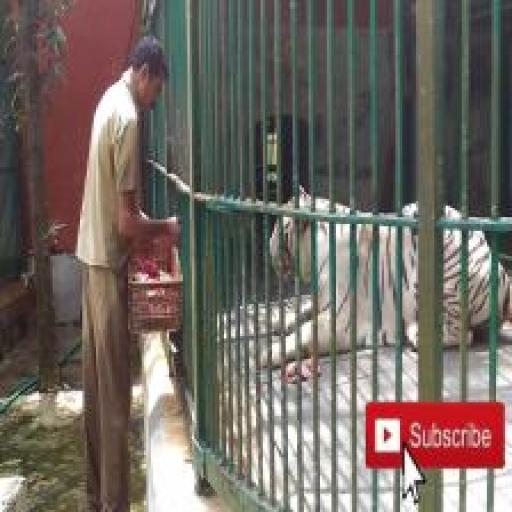Tiger: (258, 181, 511, 369)
